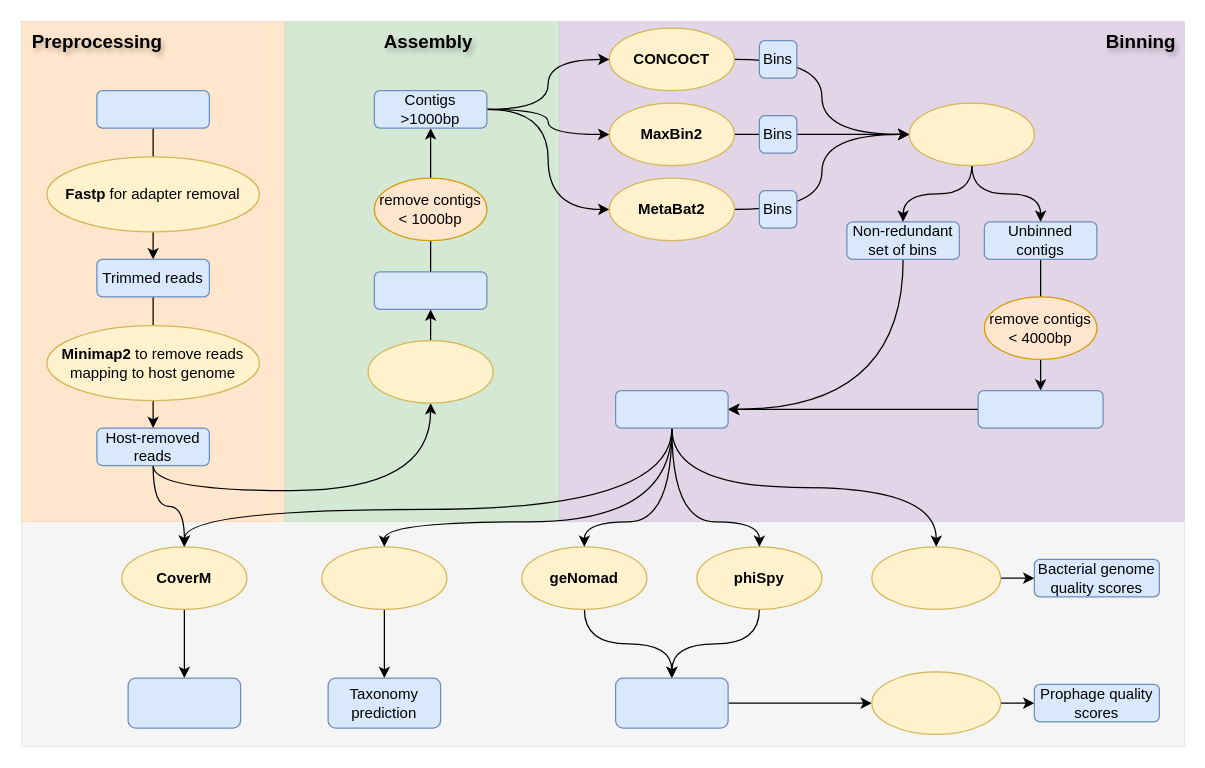
The diagram is 1205 pixels wide and 768 high, and some of its shapes have lost their labels. The shapes that lost their labels are listed below. From the top down, each one's centre as x and y in pixels, then its label:
point 152,108: Raw reads
point 971,134: DAS Tool
point 430,290: Contigs
point 430,371: metaSPAdes
point 671,408: Bins and contigs
point 1040,408: Unbinned contigs >4000bp
point 384,577: CAT
point 936,577: checkM
point 184,702: Read coverage
point 671,702: Predicted prophages
point 936,702: checkV
